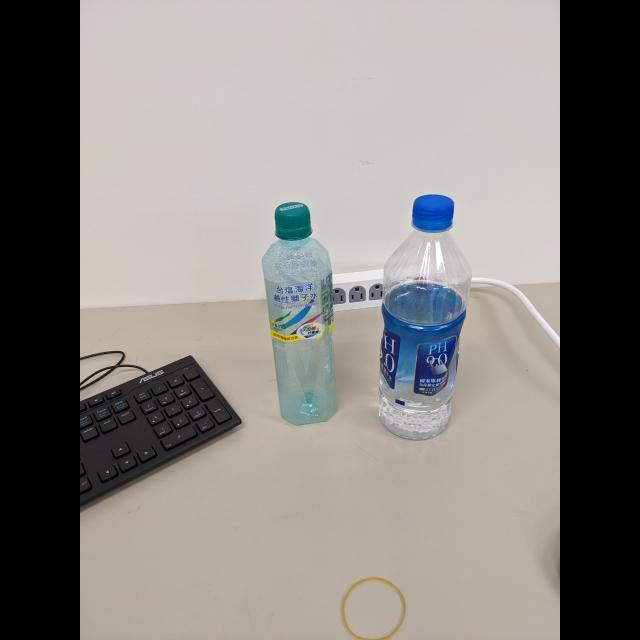trash: (374, 189, 474, 443), (257, 200, 341, 426)
